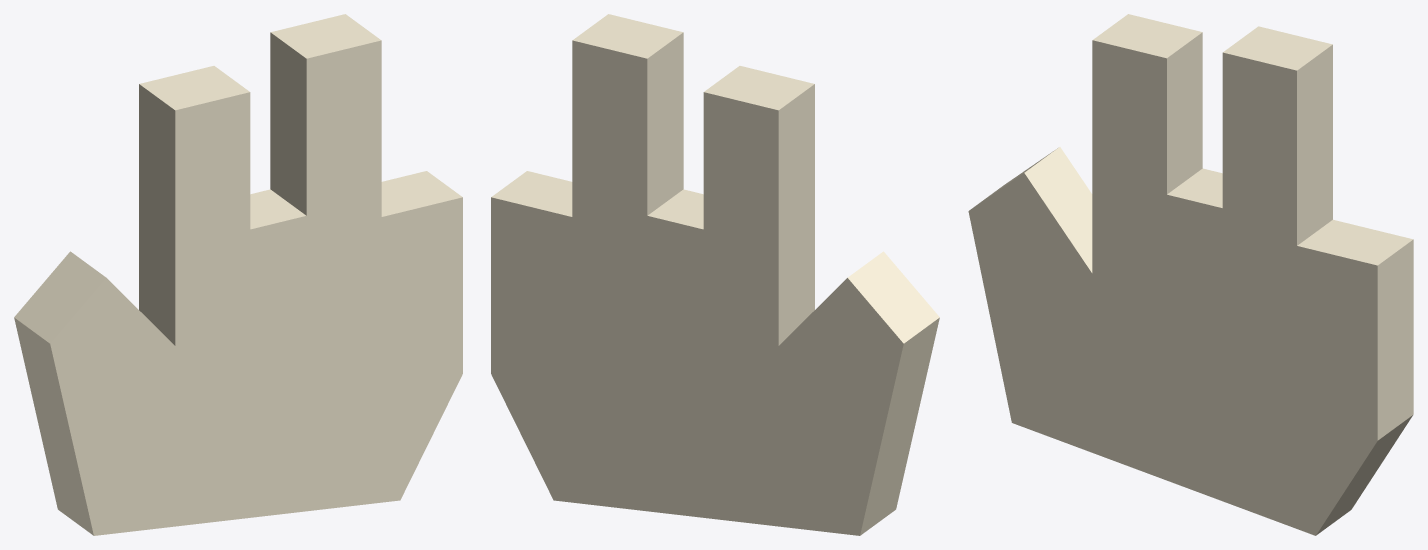
File: held-item-marker.glb
3 renders of one model, left to right at view 1: azimuth 30°, elevation 25°; view 2: azimuth 150°, elevation 25°; view 3: azimuth 330°, elevation 25°, orthographic.
Visible parts, largest first — view 1: held-item-marker; view 2: held-item-marker; view 3: held-item-marker.
Boxes of the visible parts, x1,y1,x2,y2 form: held-item-marker: (14,14,462,535); held-item-marker: (491,14,939,535); held-item-marker: (968,14,1413,535).
Size of the model in its own units: 0.66 by 0.71 by 0.1.
